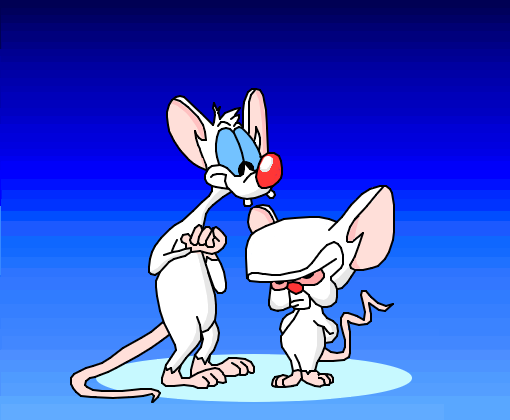cerebro: (242, 183, 398, 397)
pink: (63, 54, 280, 415)
